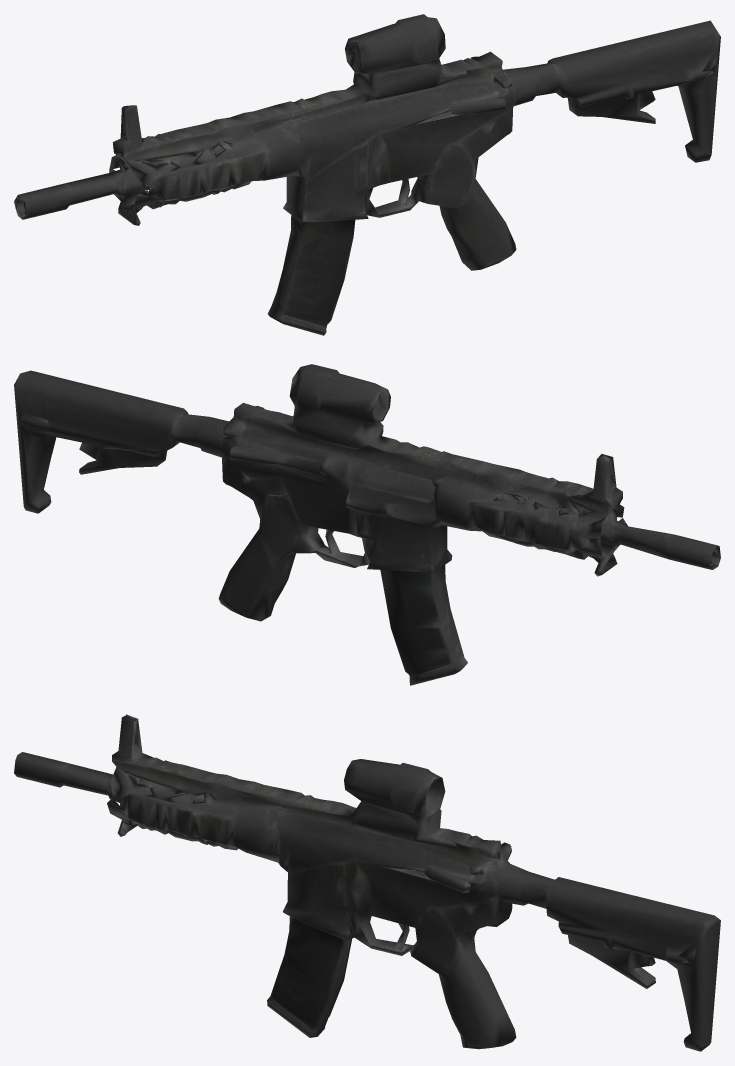
File: guard_rifle.glb
The picture shows the model from 3 angles, top to bottom: view 1: azimuth 30°, elevation 25°; view 2: azimuth 150°, elevation 25°; view 3: azimuth 330°, elevation 25°; orthographic projection.
Bounding box in the file's own units: 1.9 × 0.7536 × 0.1999.
Materials: 1 (1 with a texture image).
